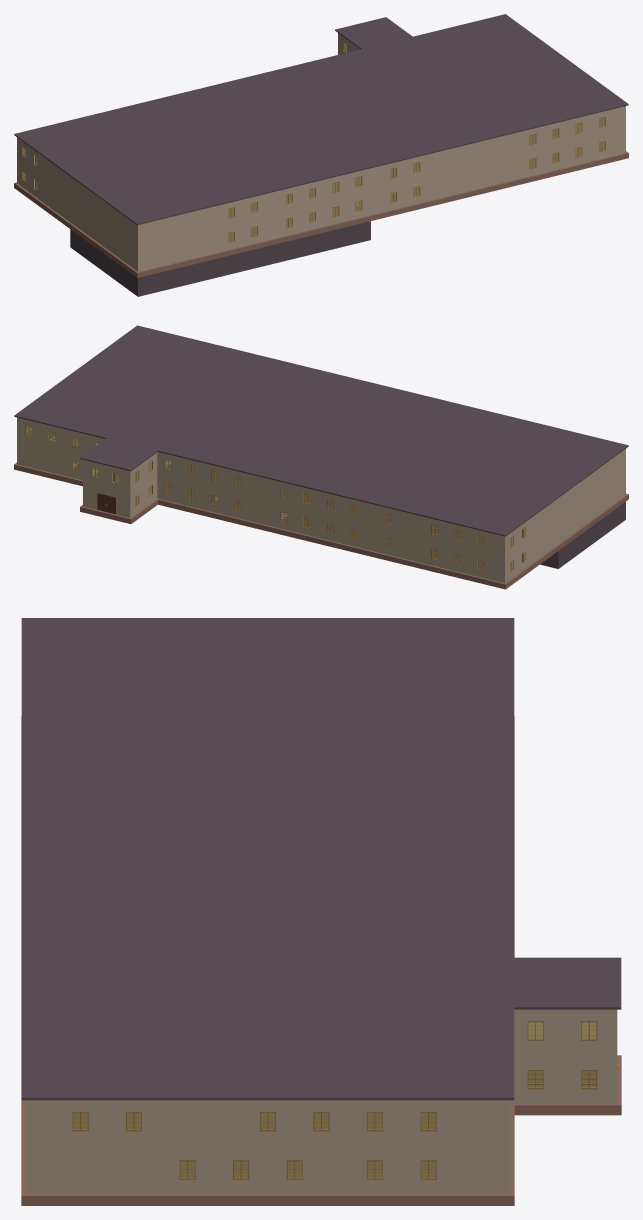
Rendered from Level3.fbx.
3 renders of one model, top to bottom at view 1: azimuth 30°, elevation 25°; view 2: azimuth 150°, elevation 25°; view 3: azimuth 270°, elevation 25°, orthographic. The views are drawn at different scales.
Visible parts, largest first — view 1: Roof, Walls1, Walls2, Basement, Concrete, Glass.001, Glass.016, FloorLevel1, FloorLevel2; view 2: Roof, Walls1, Walls2, Concrete, Glass.001, Basement, Glass.016, FloorLevel2, FloorLevel1; view 3: Roof, Walls1, Walls2, Concrete, Glass.001, Glass.016, FloorLevel2, FloorLevel1.
Boxes of the visible parts, x1,y1,x2,y2 form: Roof: (14, 14, 628, 225); Walls1: (17, 129, 625, 271); Walls2: (17, 33, 625, 247); Basement: (70, 221, 370, 296); Concrete: (14, 151, 628, 277); Glass.001: (22, 41, 605, 218); Glass.016: (22, 141, 605, 242); FloorLevel1: (35, 142, 604, 241); FloorLevel2: (35, 117, 604, 217); Roof: (14, 325, 628, 536); Walls1: (17, 440, 625, 583); Walls2: (17, 417, 625, 558); Concrete: (14, 462, 628, 589); Glass.001: (25, 425, 525, 547); Basement: (540, 502, 625, 568); Glass.016: (72, 461, 525, 571); FloorLevel2: (27, 430, 524, 546); FloorLevel1: (73, 466, 522, 570); Roof: (21, 618, 621, 1100); Walls1: (25, 1055, 617, 1193); Walls2: (25, 1009, 617, 1145); Concrete: (21, 716, 621, 1205); Glass.001: (72, 1021, 597, 1131); Glass.016: (179, 1070, 597, 1179); FloorLevel2: (73, 1022, 595, 1129); FloorLevel1: (180, 1070, 596, 1177).
Bounding box in the file's own units: 212 × 112 × 30.5.
